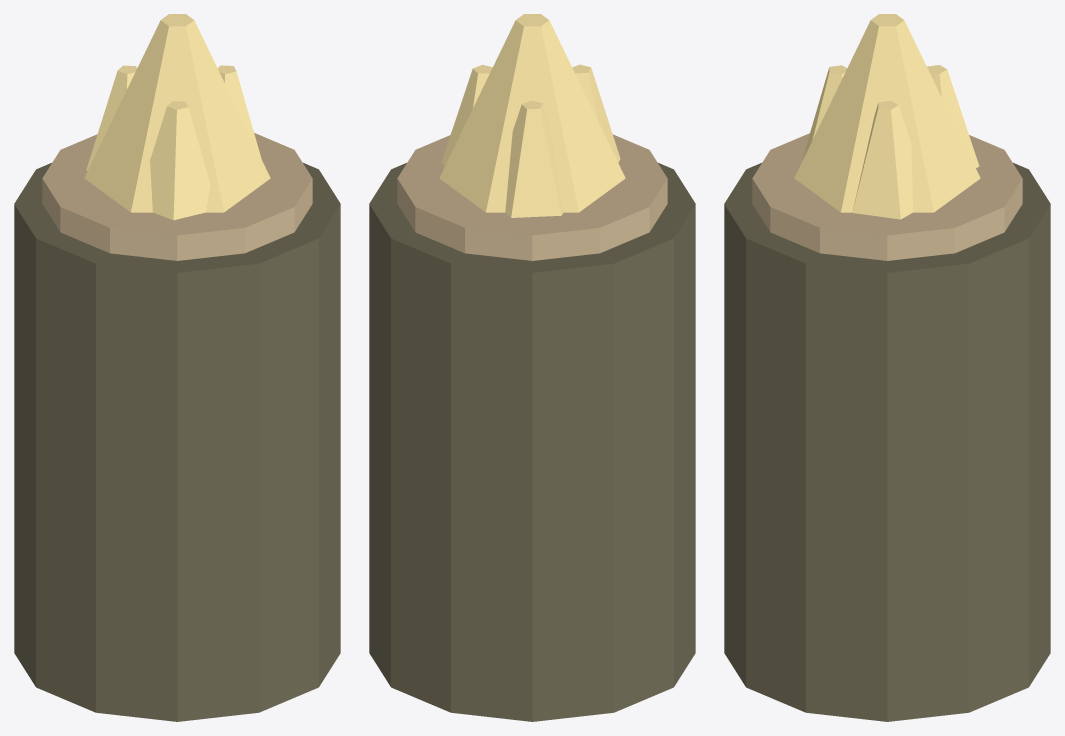
The model's file is SM_BidonFuego_v0_Solo_LOD0.fbx.
The picture shows the model from 3 angles, left to right: view 1: azimuth 30°, elevation 25°; view 2: azimuth 150°, elevation 25°; view 3: azimuth 270°, elevation 25°; orthographic projection.
Visible parts, largest first — view 1: SM_vida_fuerte_v0_LOD0, Emision; view 2: SM_vida_fuerte_v0_LOD0, Emision; view 3: SM_vida_fuerte_v0_LOD0, Emision.
Part boxes in pixels (<box>): SM_vida_fuerte_v0_LOD0: <box>14,163,340,721</box>; Emision: <box>42,14,312,260</box>; SM_vida_fuerte_v0_LOD0: <box>369,163,695,721</box>; Emision: <box>397,14,667,260</box>; SM_vida_fuerte_v0_LOD0: <box>724,163,1050,721</box>; Emision: <box>752,14,1022,260</box>.
Bounding box in the file's own units: 0.58 × 1.24 × 0.58.
